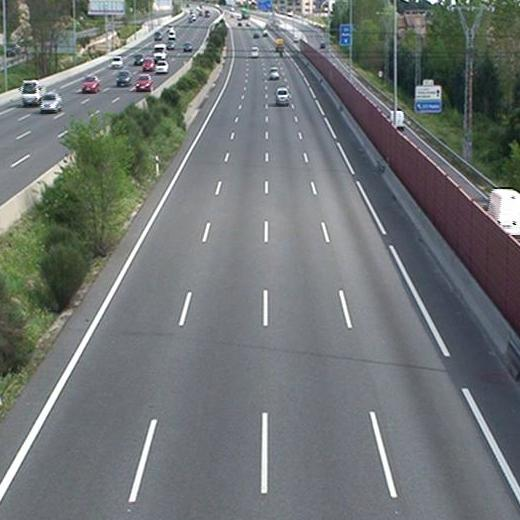car: (276, 87, 290, 106), (269, 67, 281, 81), (248, 46, 260, 56)
